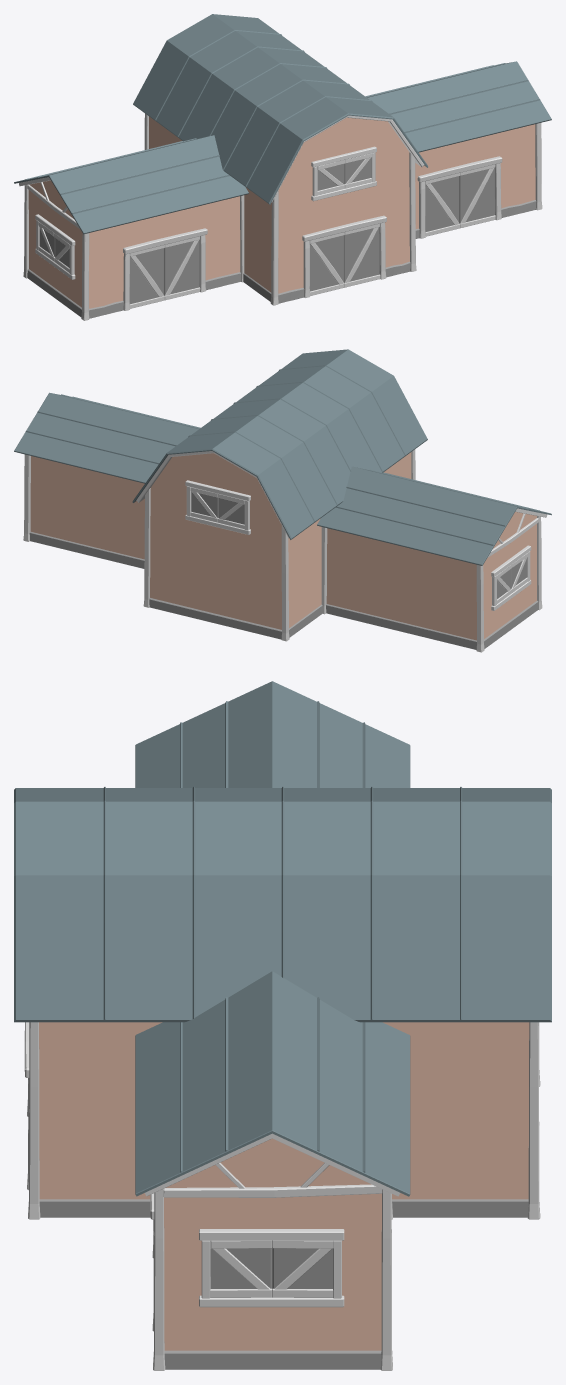
Rendered from fp_storage_l1.glb.
3 renders of one model, top to bottom at view 1: azimuth 30°, elevation 25°; view 2: azimuth 150°, elevation 25°; view 3: azimuth 270°, elevation 25°, orthographic. The views are drawn at different scales.
Size of the model in its own units: 1.8 by 0.6548 by 0.9104.
